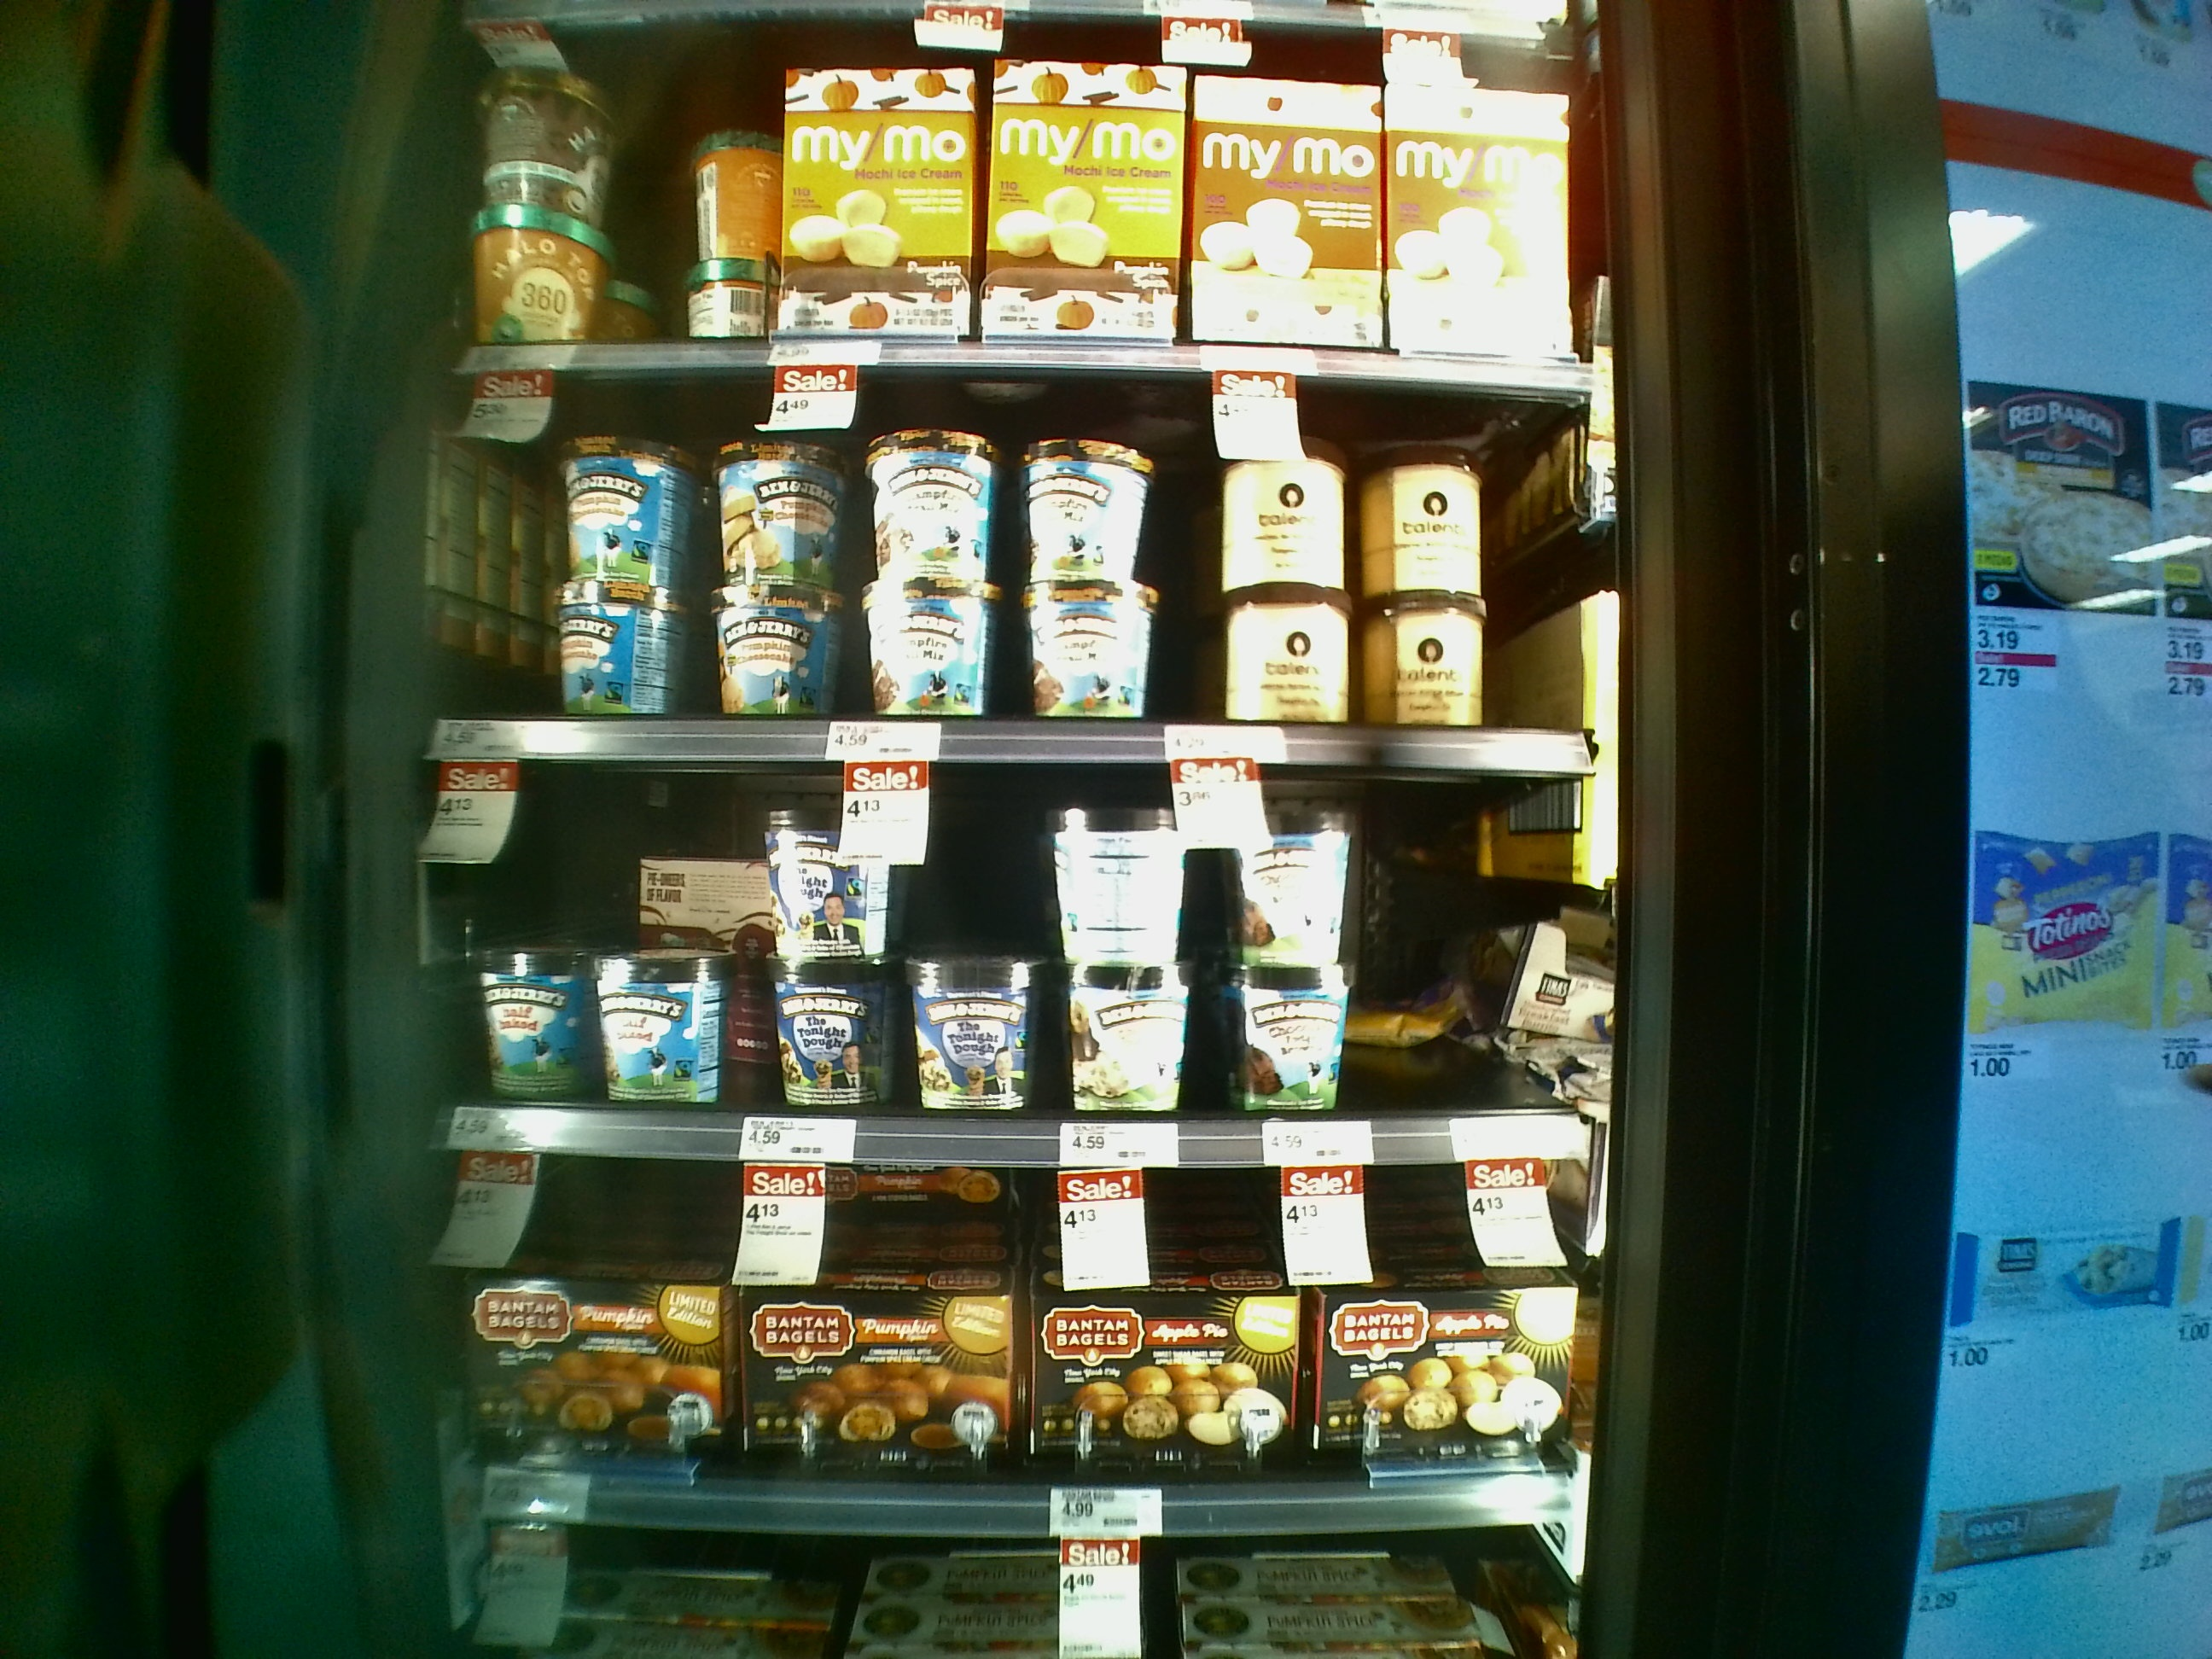shelf: (388, 735, 1622, 1171), (409, 354, 1627, 781), (387, 1129, 1597, 1534)
